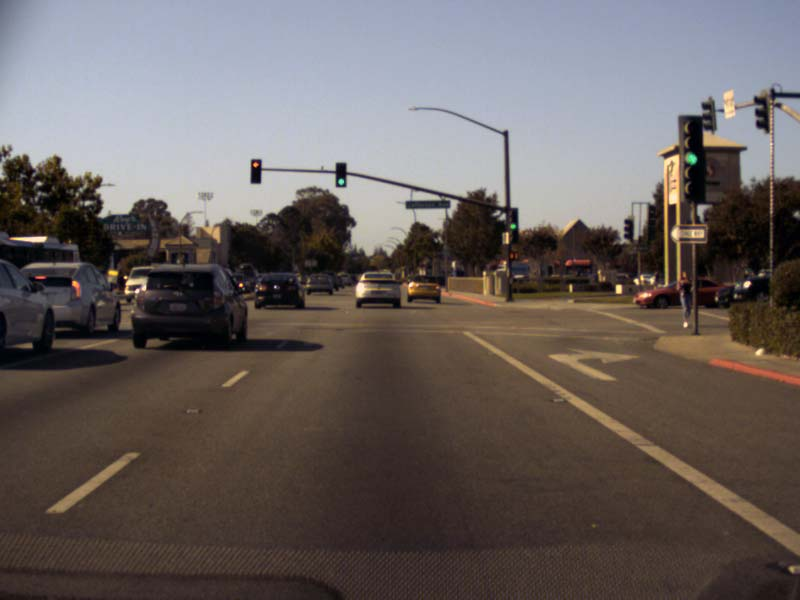Green: (684, 120, 702, 198), (336, 163, 346, 186), (510, 207, 517, 232)
Red: (250, 159, 260, 182)
